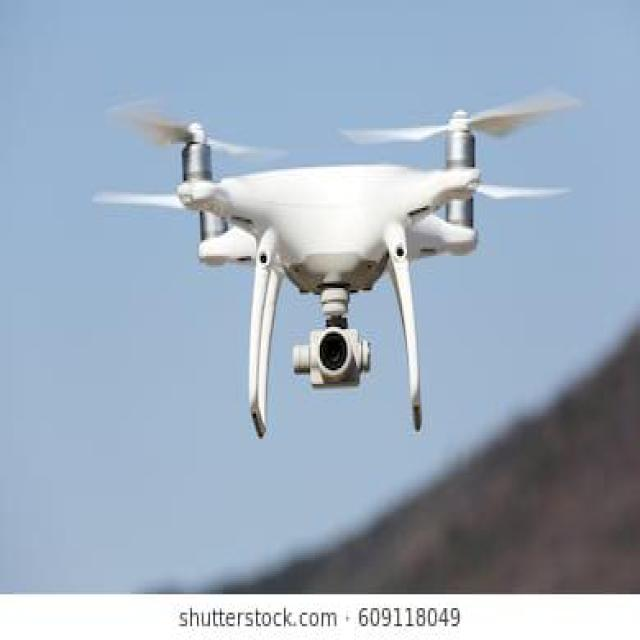drone: (0, 0, 640, 546)
